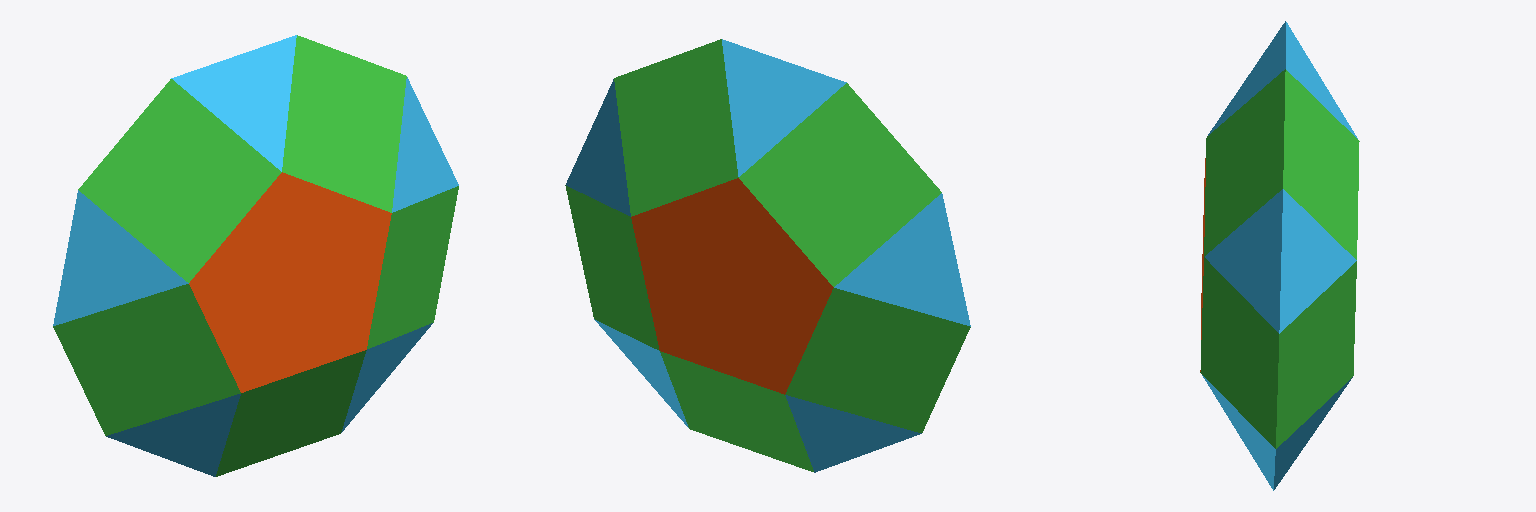
File: j30_pentagonal_orthobicupola.obj
The picture shows the model from 3 angles: view 1: azimuth 30°, elevation 25°; view 2: azimuth 150°, elevation 25°; view 3: azimuth 270°, elevation 25°; orthographic projection.
Size of the model in its own units: 2.39 by 2.35 by 0.8123.